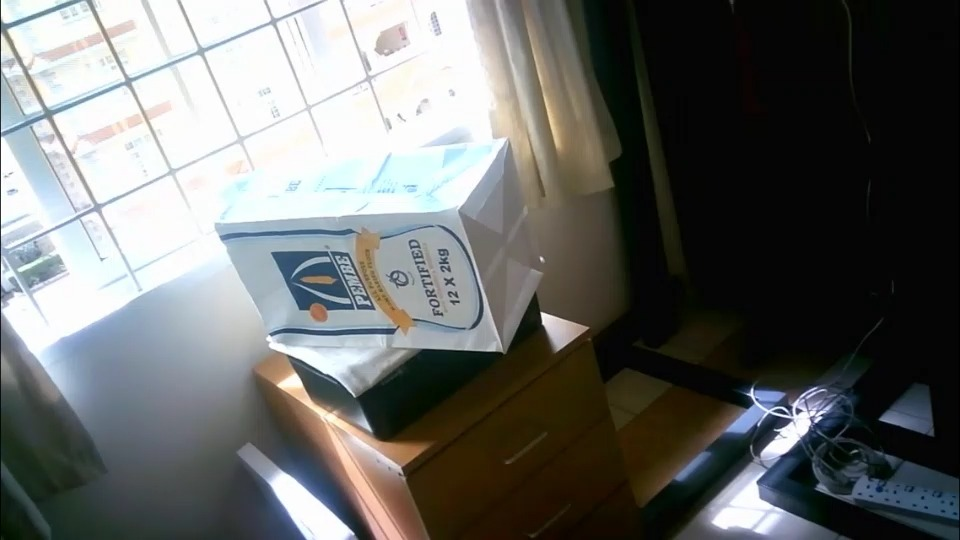wheat_flour_blue_label: (216, 136, 546, 355)
